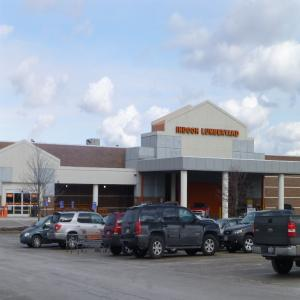Vehicle-registration-plate: (268, 246, 277, 256), (225, 238, 229, 243), (108, 234, 112, 238), (127, 231, 130, 235)
